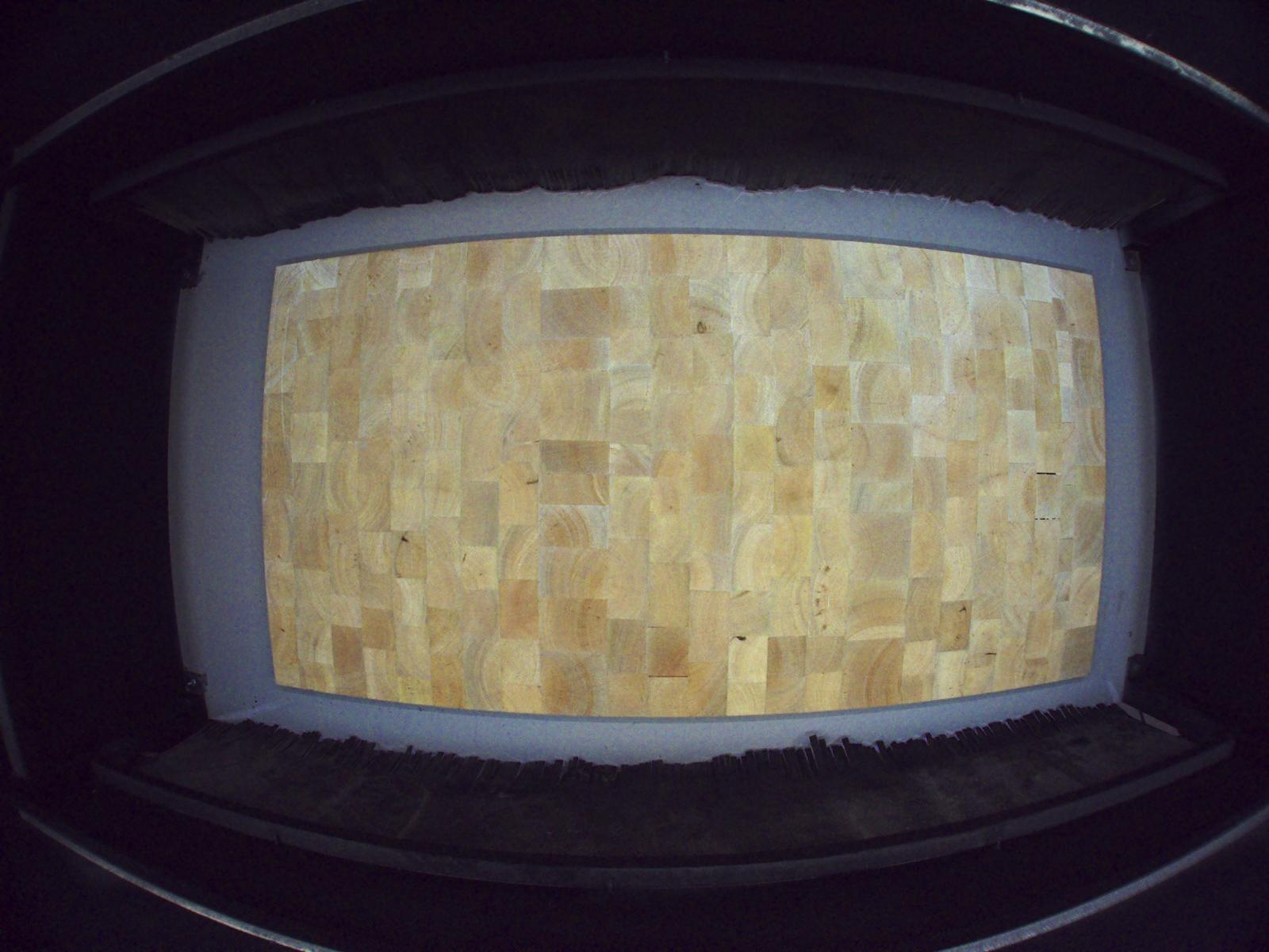sheck_ecuatoriano: (392, 529, 413, 579), (958, 600, 967, 618)
